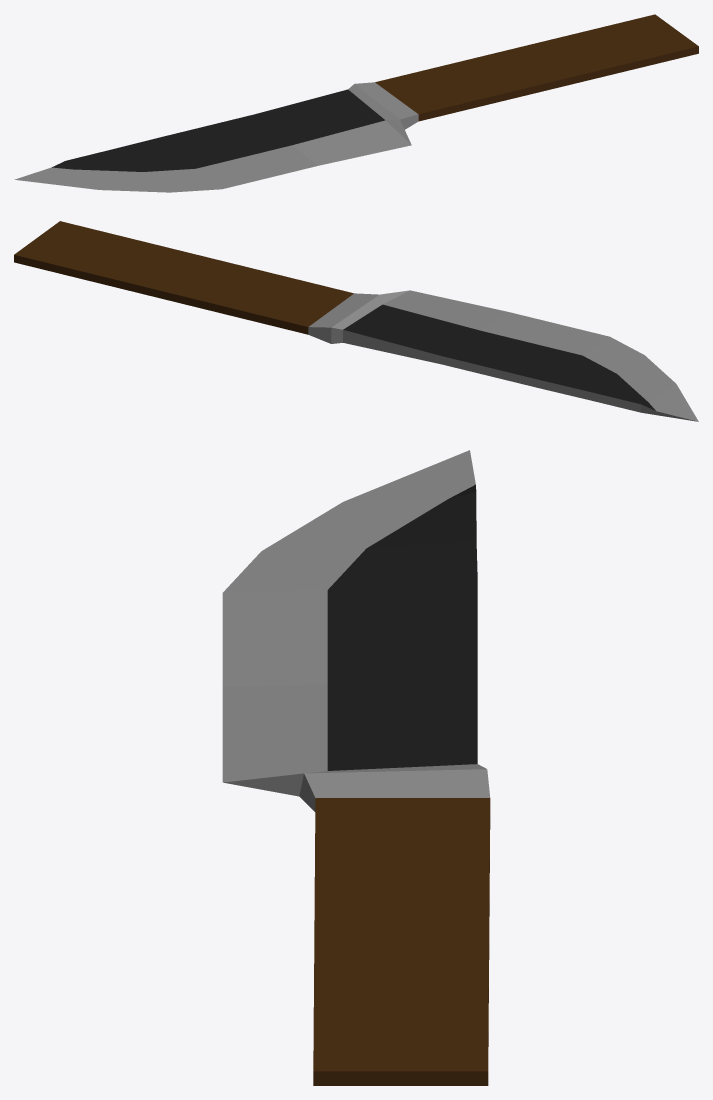
Rendered from knife.fbx.
3 views of the same model, one above another, from view 1: azimuth 30°, elevation 25°; view 2: azimuth 150°, elevation 25°; view 3: azimuth 270°, elevation 25° (orthographic). The views are drawn at different scales.
Parts seen in each view (by area): view 1: 平面; view 2: 平面; view 3: 平面.
Part boxes in pixels (<box>): 平面: <box>14,14,698,192</box>; 平面: <box>14,221,698,421</box>; 平面: <box>222,450,490,1085</box>.
Bounding box in the file's own units: 36.55 × 0.8463 × 6.56.
